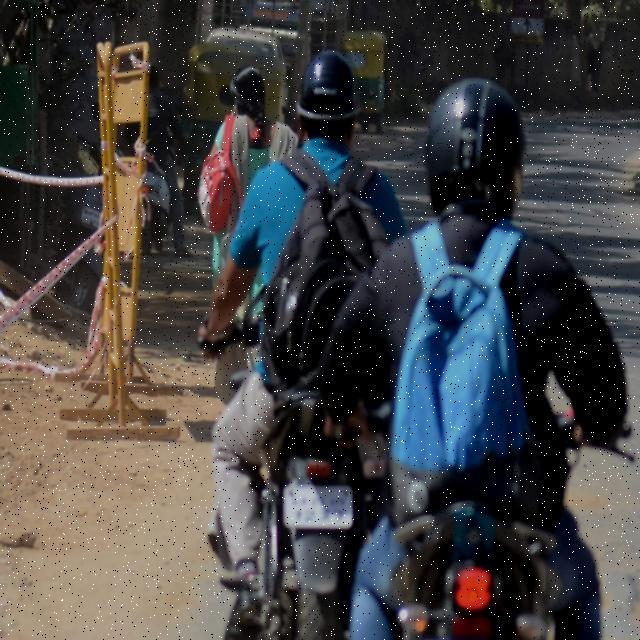with-helmet: (429, 80, 525, 224), (300, 48, 360, 132)
